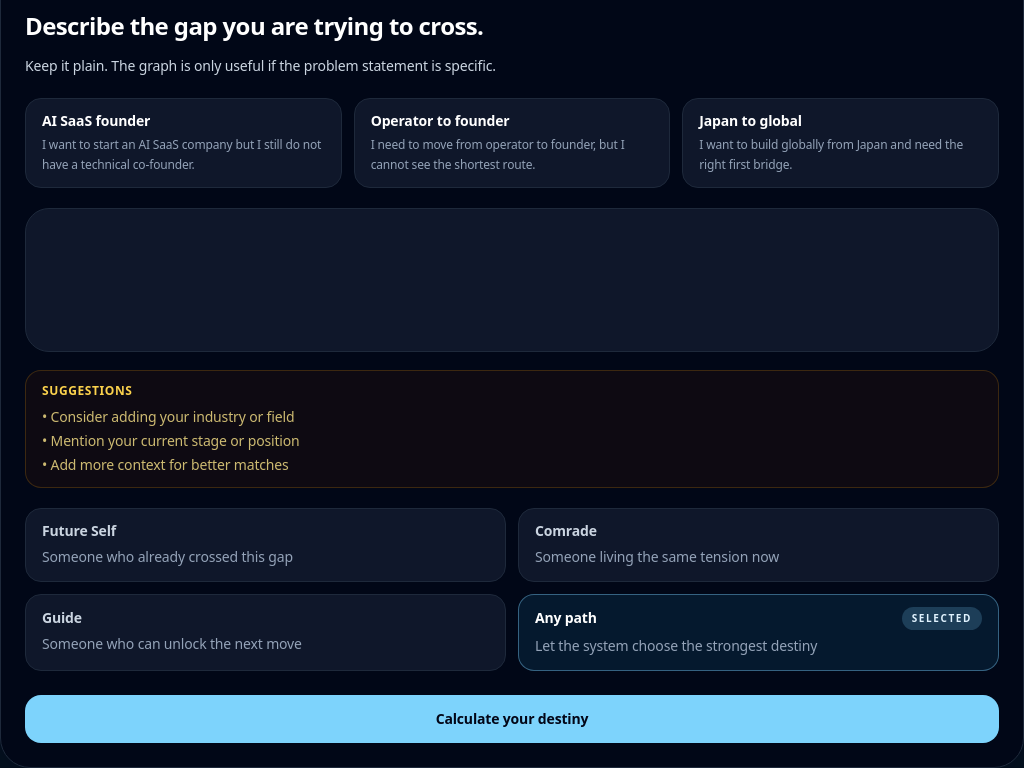
Test: SearchInput › Input validation › shows error when submitting with whitespace only
The image size is (1024, 768).
(page scrolled)
Click the button "Calculate your destiny".
click(512, 718)  # box [25, 694, 999, 742]
(page scrolled)
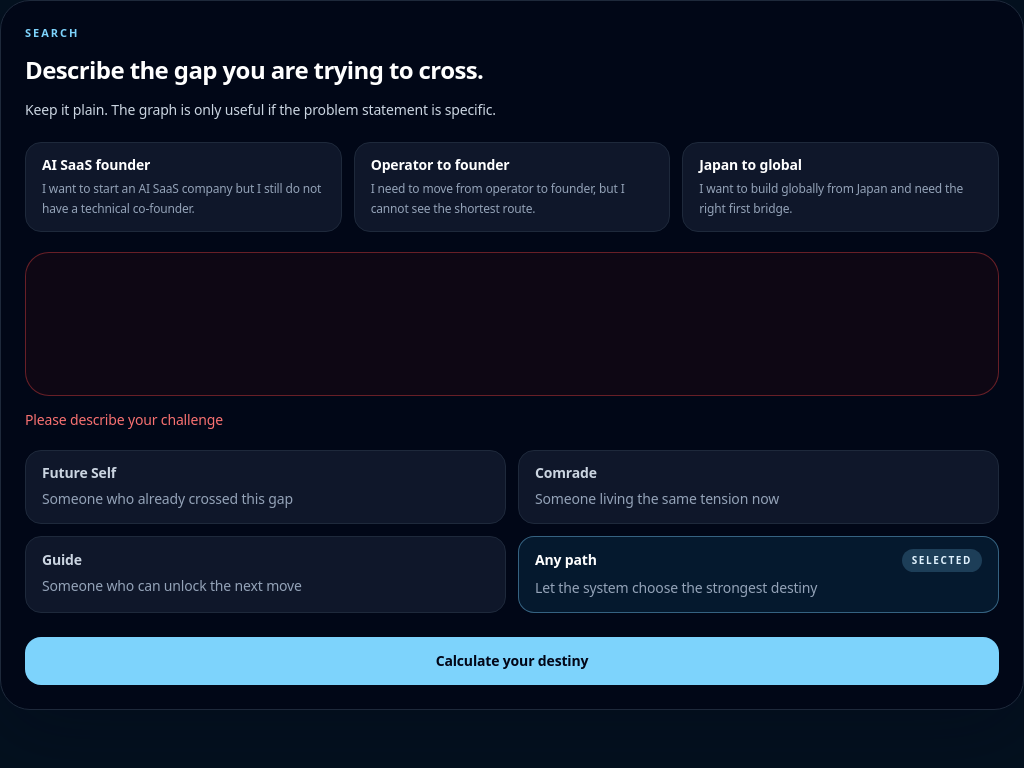
Expected: the text "Please describe your challenge" is shown, [25, 410, 223, 428]
